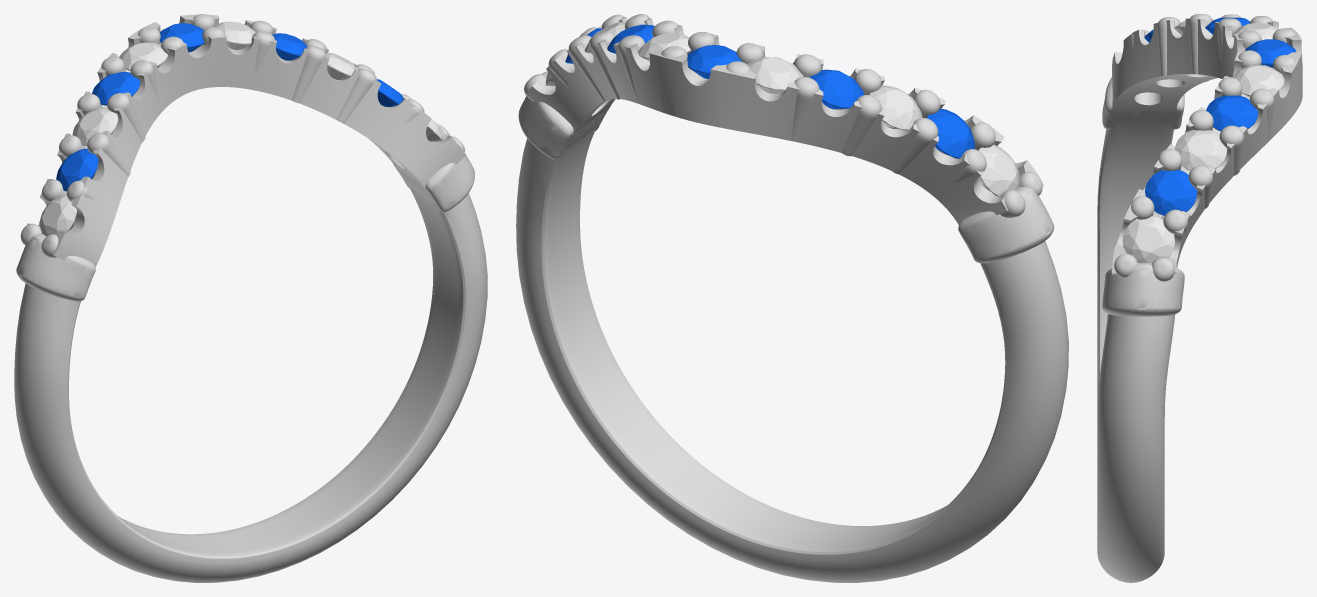
The model's file is DaniellePTalternating_blender.glb.
The picture shows the model from 3 angles, left to right: view 1: azimuth 30°, elevation 25°; view 2: azimuth 150°, elevation 25°; view 3: azimuth 270°, elevation 25°; orthographic projection. The views are drawn at different scales.
Parts seen in each view (by area): view 1: Danielle 1 PT for 3d model, Danielle dia for 3d model.005, Danielle sapph wb for 3d model.004, Danielle dia for 3d model.004, Danielle sapph wb for 3d model.003, Danielle dia for 3d model.003, Danielle sapph wb for 3d model.002, Danielle dia for 3d model.002, Danielle sapph wb for 3d model.001; view 2: Danielle 1 PT for 3d model, Danielle dia for 3d model.005, Danielle sapph wb for 3d model.004, Danielle dia for 3d model.004, Danielle sapph wb for 3d model.003, Danielle dia for 3d model.003, Danielle sapph wb for 3d model.002, Danielle dia for 3d model.002; view 3: Danielle 1 PT for 3d model, Danielle dia for 3d model, Danielle sapph wb for 3d model, Danielle dia for 3d model.001, Danielle sapph wb for 3d model.001, Danielle dia for 3d model.002, Danielle sapph wb for 3d model.002, Danielle dia for 3d model.003.
Boxes of the visible parts, x1,y1,x2,y2 form: Danielle 1 PT for 3d model: (14,14,487,582); Danielle dia for 3d model.005: (39,194,76,236); Danielle sapph wb for 3d model.004: (56,148,98,191); Danielle dia for 3d model.004: (72,107,118,145); Danielle sapph wb for 3d model.003: (92,72,140,105); Danielle dia for 3d model.003: (119,42,167,70); Danielle sapph wb for 3d model.002: (159,23,204,52); Danielle dia for 3d model.002: (214,21,255,49); Danielle sapph wb for 3d model.001: (272,33,307,60); Danielle 1 PT for 3d model: (516,14,1068,582); Danielle dia for 3d model.005: (978,144,1019,196); Danielle sapph wb for 3d model.004: (927,109,974,158); Danielle dia for 3d model.004: (869,85,922,130); Danielle sapph wb for 3d model.003: (809,69,864,109); Danielle dia for 3d model.003: (747,57,803,93); Danielle sapph wb for 3d model.002: (687,45,742,78); Danielle dia for 3d model.002: (638,33,690,61); Danielle 1 PT for 3d model: (1097,14,1302,582); Danielle dia for 3d model: (1122,216,1174,263); Danielle sapph wb for 3d model: (1145,169,1196,215); Danielle dia for 3d model.001: (1175,130,1226,170); Danielle sapph wb for 3d model.001: (1206,95,1257,131); Danielle dia for 3d model.002: (1233,65,1284,96); Danielle sapph wb for 3d model.002: (1245,39,1296,67); Danielle dia for 3d model.003: (1232,23,1278,40).
Bounding box in the file's own units: 18.07 × 18.51 × 6.7.
